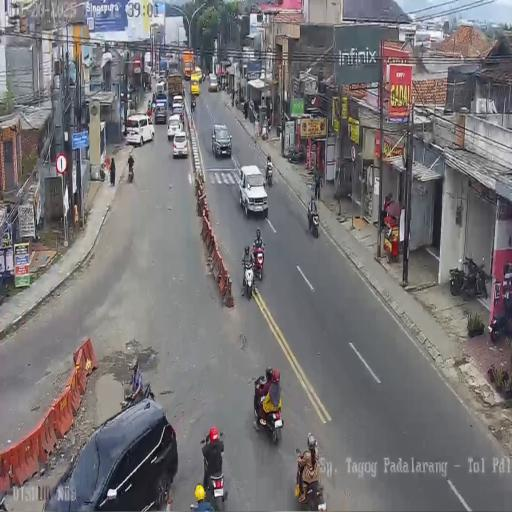3: (167, 72, 184, 100), (182, 51, 195, 80), (144, 52, 154, 76), (159, 57, 170, 77), (168, 57, 179, 76)
car: (41, 398, 175, 510), (237, 165, 268, 217), (124, 113, 155, 146), (211, 124, 232, 158), (172, 132, 188, 160), (154, 95, 168, 124), (172, 98, 183, 117), (208, 73, 219, 92), (155, 78, 166, 96), (194, 65, 203, 83)
truck: (253, 375, 282, 443), (295, 449, 325, 511), (450, 253, 489, 300), (241, 254, 255, 300), (489, 310, 504, 342), (286, 146, 304, 165), (309, 205, 319, 238), (266, 162, 274, 187), (126, 161, 134, 182), (191, 96, 196, 113), (231, 94, 235, 107)
